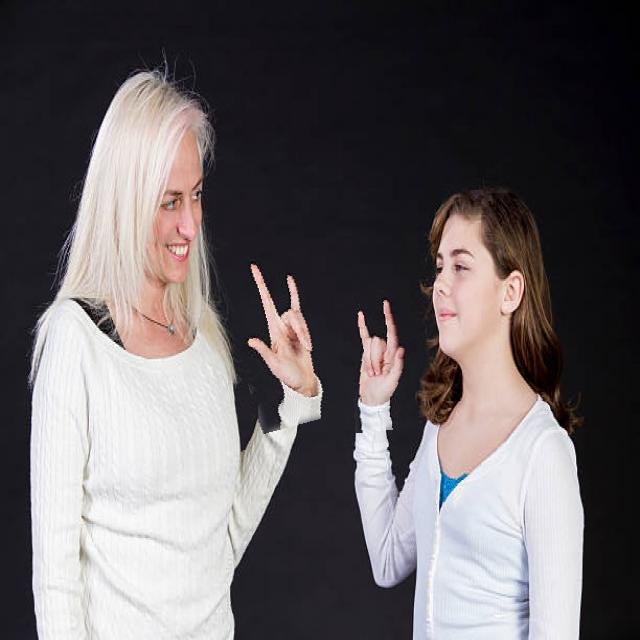I Love You: (224, 232, 341, 430), (341, 277, 412, 432)
